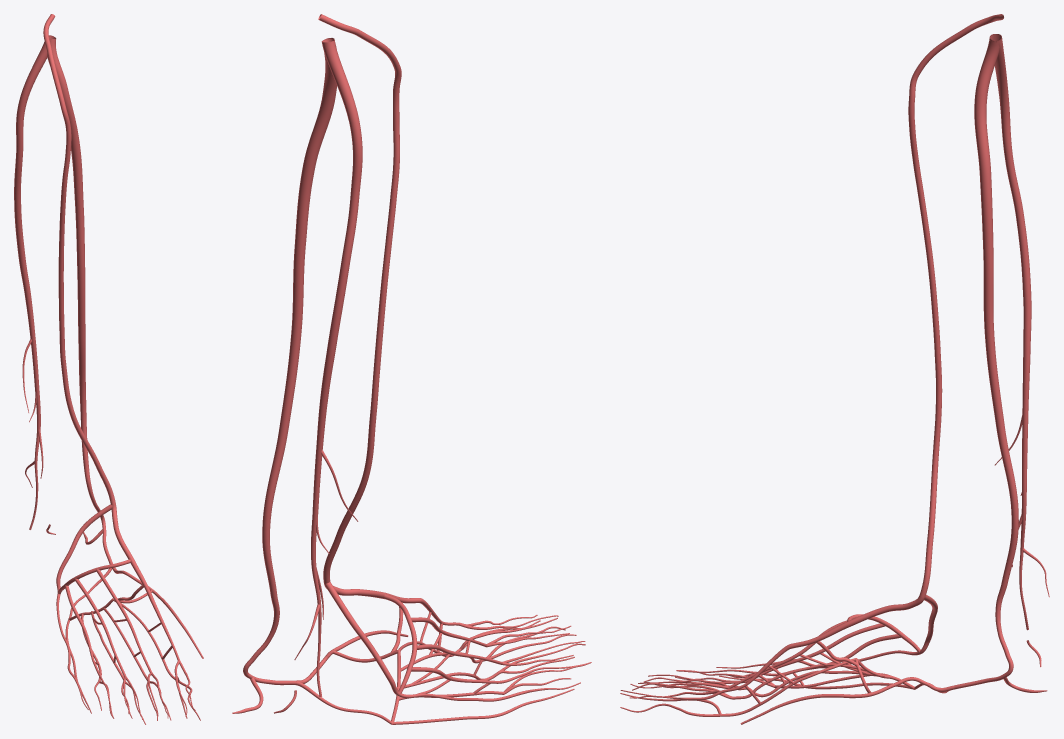
The model's file is arteries.glb.
The picture shows the model from 3 angles, left to right: view 1: azimuth 30°, elevation 25°; view 2: azimuth 150°, elevation 25°; view 3: azimuth 270°, elevation 25°; orthographic projection. The views are drawn at different scales.
Parts seen in each view (by area): view 1: Posterior tibial artery.r, Fibular artery.r, Anterior tibial artery.r, Dorsal metatarsal arteries.r, Dorsal digital arteries of foot.r, Proper plantar digital arteries.r, Plantar metatarsal arteries.r, Dorsalis pedis artery.r, Lateral tarsal artery.r, Arcuate artery.r; view 2: Posterior tibial artery.r, Fibular artery.r, Anterior tibial artery.r, Proper plantar digital arteries.r, Dorsal digital arteries of foot.r, Dorsal metatarsal arteries.r, Lateral tarsal artery.r, Plantar metatarsal arteries.r, Perforating branches of plantar metatarsal arteries.r, Arcuate artery.r; view 3: Posterior tibial artery.r, Fibular artery.r, Anterior tibial artery.r, Proper plantar digital arteries.r, Dorsal digital arteries of foot.r, Dorsal metatarsal arteries.r, Plantar metatarsal arteries.r, Dorsalis pedis artery.r.
Part boxes in pixels (x1,y1,x2,y2): Posterior tibial artery.r: [47, 36, 112, 563]; Fibular artery.r: [14, 35, 55, 529]; Anterior tibial artery.r: [43, 14, 115, 505]; Dorsal metatarsal arteries.r: [64, 569, 179, 676]; Dorsal digital arteries of foot.r: [56, 594, 195, 719]; Proper plantar digital arteries.r: [65, 619, 200, 724]; Plantar metatarsal arteries.r: [81, 598, 162, 663]; Dorsalis pedis artery.r: [111, 505, 153, 600]; Lateral tarsal artery.r: [56, 504, 112, 592]; Arcuate artery.r: [57, 559, 130, 594]; Posterior tibial artery.r: [243, 38, 336, 685]; Fibular artery.r: [294, 39, 362, 696]; Anterior tibial artery.r: [318, 14, 401, 583]; Proper plantar digital arteries.r: [392, 617, 591, 724]; Dorsal digital arteries of foot.r: [399, 615, 586, 701]; Dorsal metatarsal arteries.r: [411, 598, 502, 683]; Lateral tarsal artery.r: [324, 582, 399, 695]; Plantar metatarsal arteries.r: [396, 641, 475, 700]; Perforating branches of plantar metatarsal arteries.r: [411, 612, 490, 694]; Arcuate artery.r: [383, 594, 417, 693]; Posterior tibial artery.r: [954, 34, 1018, 689]; Fibular artery.r: [990, 34, 1049, 630]; Anterior tibial artery.r: [908, 14, 1003, 597]; Proper plantar digital arteries.r: [620, 670, 912, 716]; Dorsal digital arteries of foot.r: [620, 650, 920, 700]; Dorsal metatarsal arteries.r: [721, 620, 901, 693]; Plantar metatarsal arteries.r: [760, 658, 890, 705]; Dorsalis pedis artery.r: [789, 596, 924, 648].
Bounding box in the file's own units: 0.0937 × 0.3799 × 0.2087.
